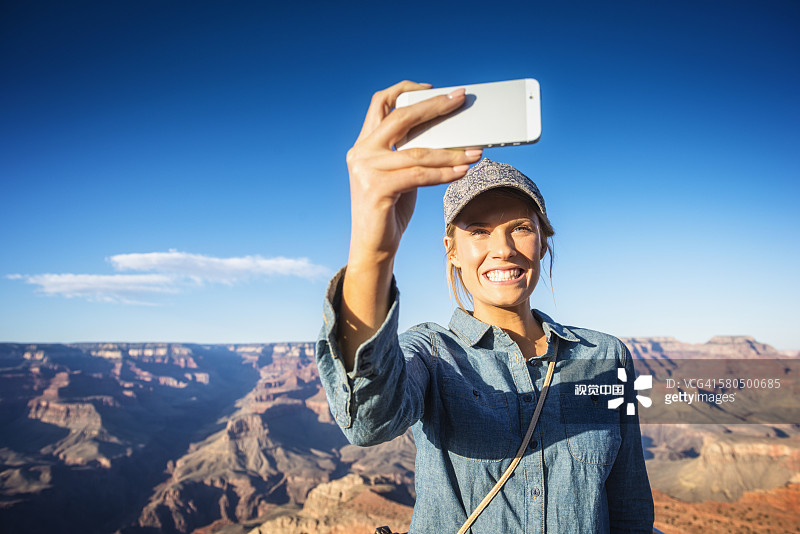taking photos: (332, 59, 520, 284)
